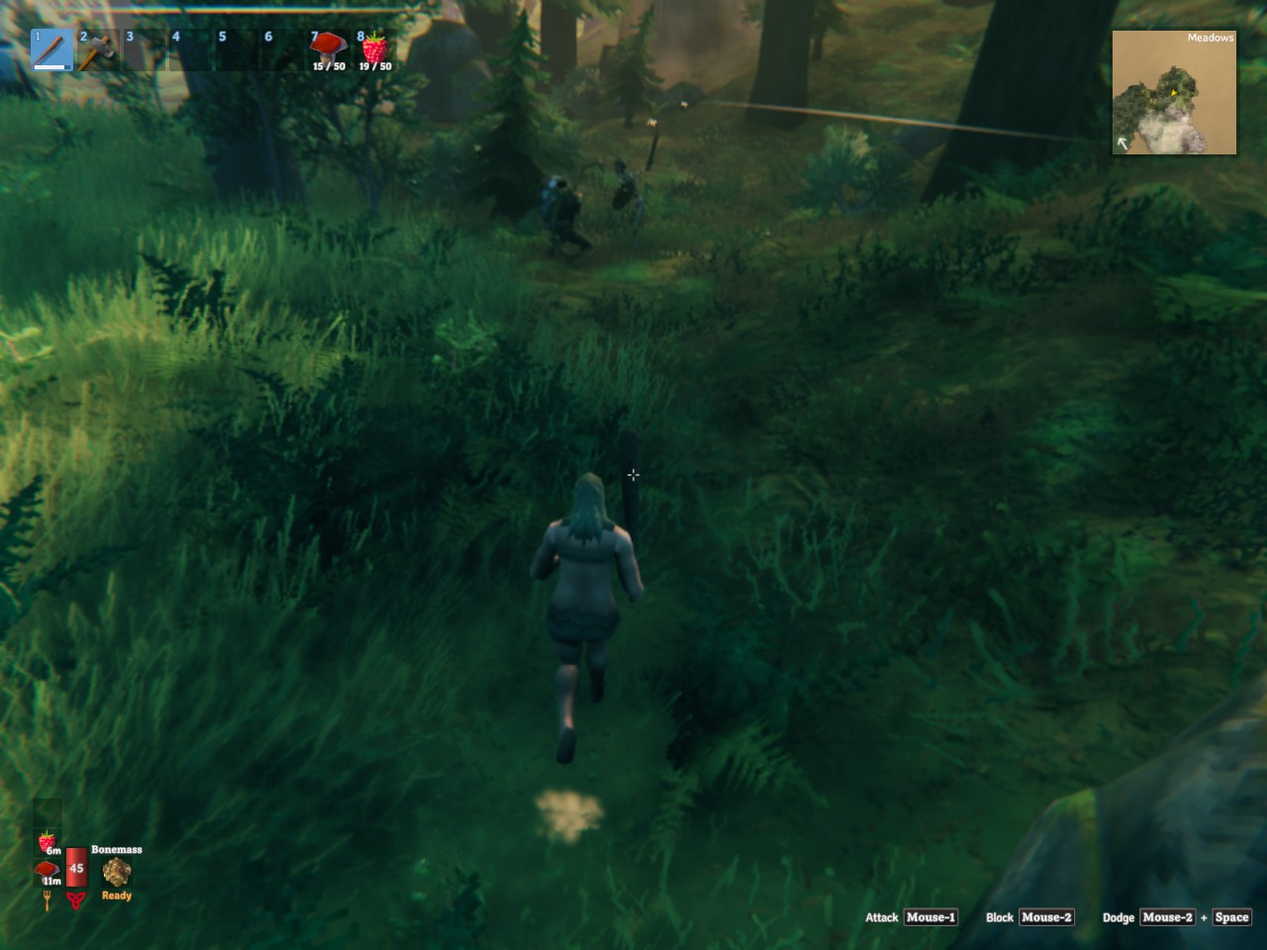Greydwarf: (541, 175, 591, 249)
Skeleton: (612, 159, 642, 229)
